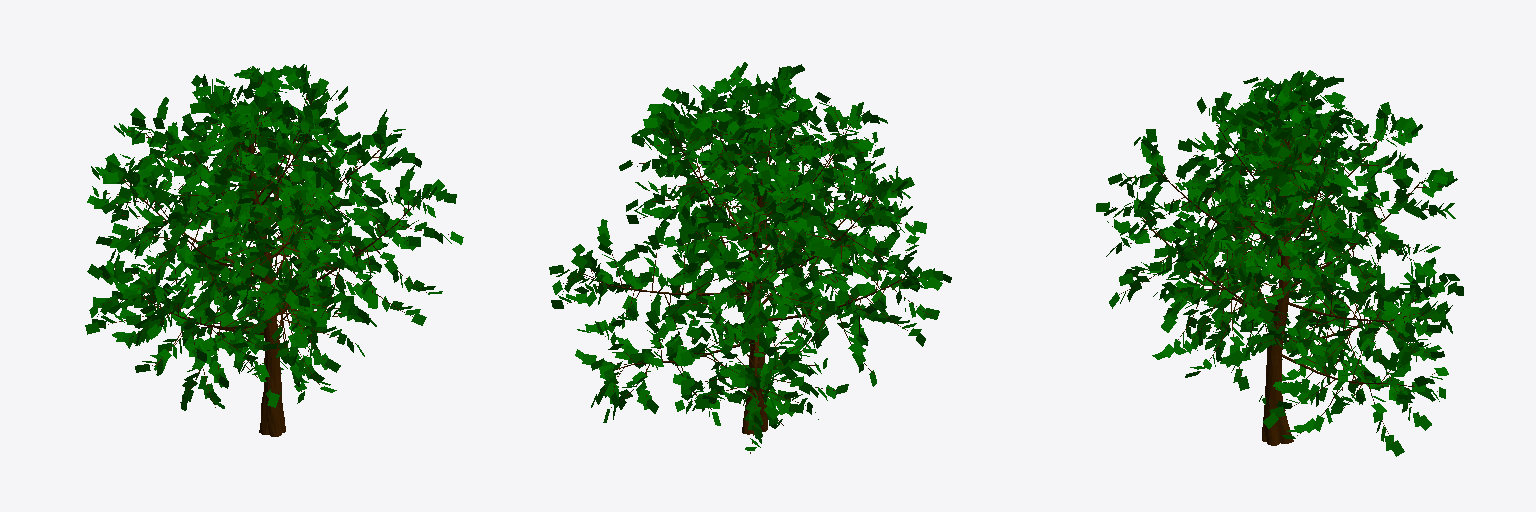
Rendered from tree1.obj.
The picture shows the model from 3 angles: view 1: azimuth 30°, elevation 25°; view 2: azimuth 150°, elevation 25°; view 3: azimuth 270°, elevation 25°; orthographic projection.
Visible parts, largest first — view 1: Foliage001; view 2: Foliage001; view 3: Foliage001.
Boxes of the visible parts, x1=… form: Foliage001: x1=85, y1=64, x2=463, y2=436; Foliage001: x1=549, y1=62, x2=951, y2=453; Foliage001: x1=1096, y1=70, x2=1463, y2=456.
Size of the model in its own units: 94.91 by 102 by 96.14.